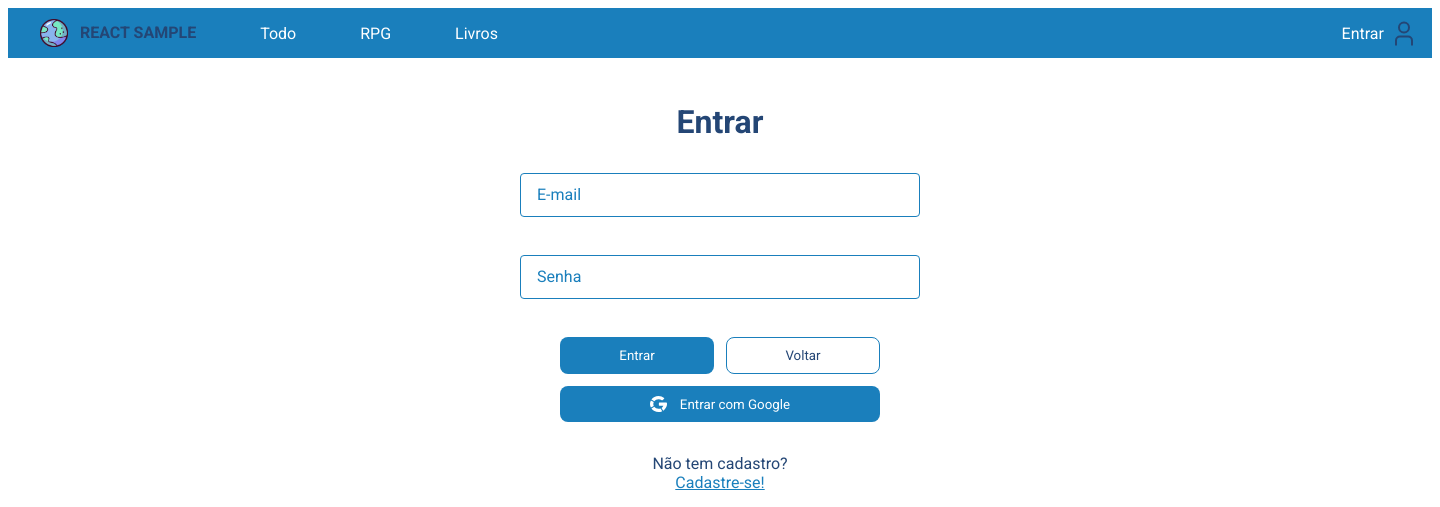
LoginPage › deve exibir toast de sucesso e redirecionar para home
Type "foo@bar.com" into the field titled "email".
click(720, 195); type("foo@bar.com")  # box [520,173,920,217]
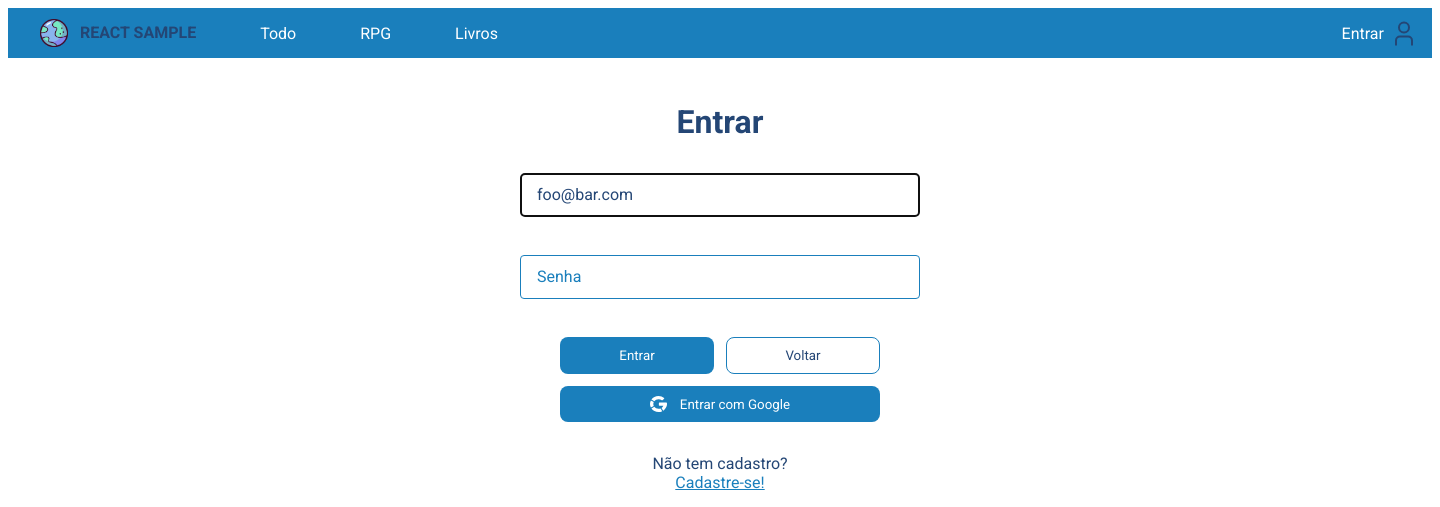
Type "foobarpassword" into the password field titled "password".
click(720, 277); type("foobarpassword")  # box [520,255,920,299]
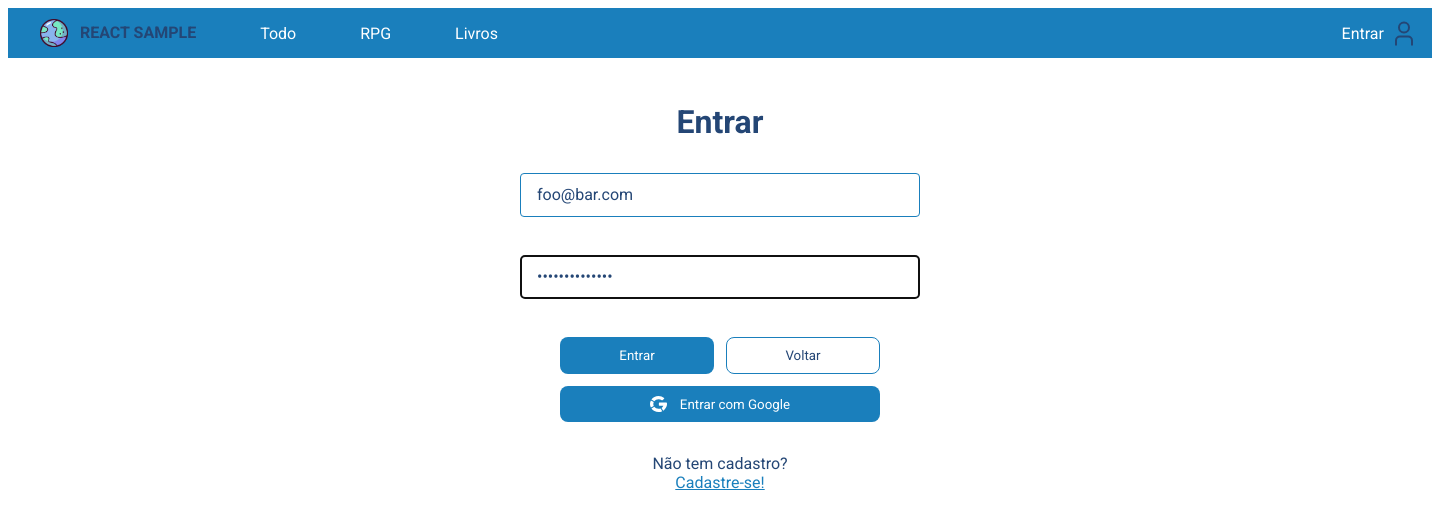
Click the button titled "Entrar".
click(637, 355)  # box [560,337,714,374]
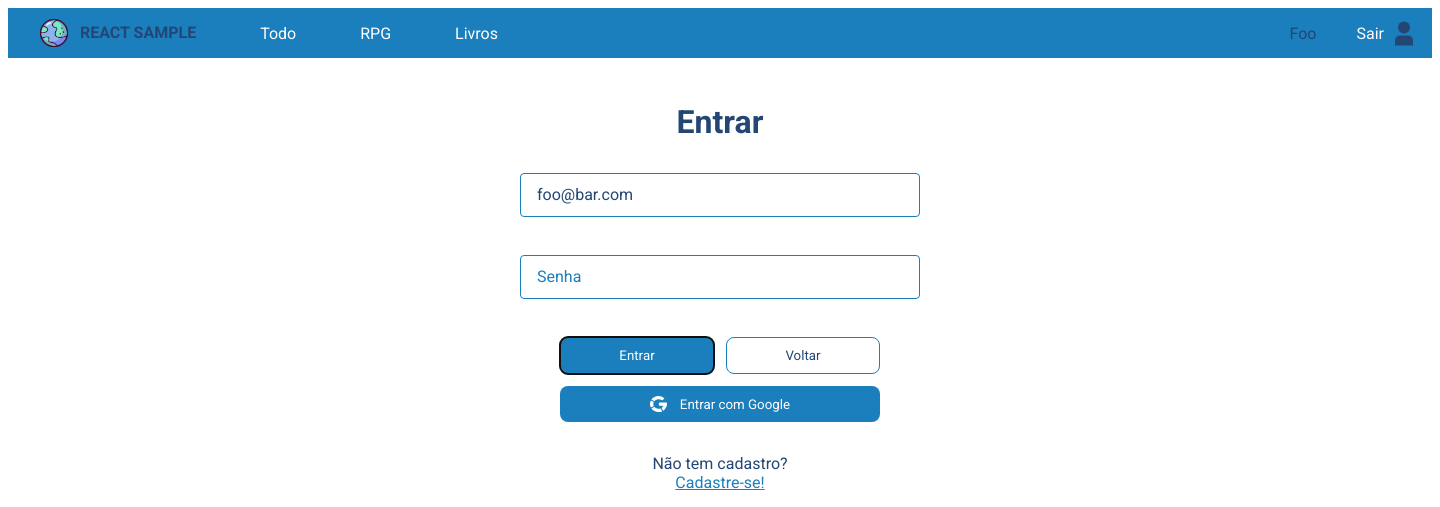
Now the text "Foo" is shown, box [1290,24,1316,42]
